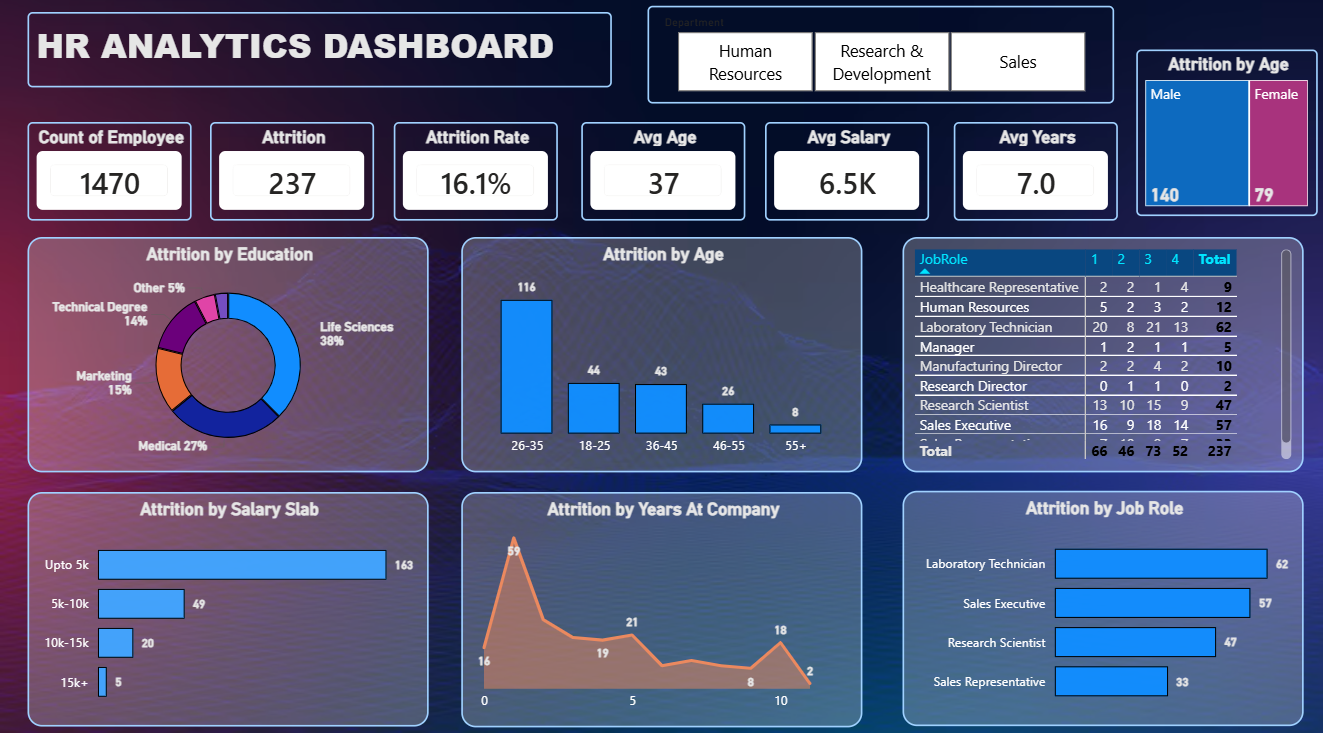

The page's visual inventory and layout, read from the dashboard file:
{"tool":"powerbi","page":{"name":"Page 1","canvas":[1280,720],"ordinal":0},"visuals":[{"type":"cardVisual","title":"Count of Employee","fields":{"Data":["CountNonNull(HR_Analytics.EmpID)"]},"box":[26.2,125,158.8,95],"z":0},{"type":"cardVisual","title":"Attrition","fields":{"Data":["Sum(HR_Analytics.AttritionCount)"]},"box":[202.5,125,158.8,95],"z":1000},{"type":"cardVisual","title":"Attrition Rate","fields":{"Data":["HR_Analytics.AttritionRate"]},"box":[380,125,158.8,95],"z":2000},{"type":"cardVisual","title":"Avg Age","fields":{"Data":["Avg(HR_Analytics.Age)"]},"box":[561.2,125,158.8,95],"z":3000},{"type":"cardVisual","title":"Avg Salary","fields":{"Data":["Avg(HR_Analytics.MonthlyIncome)"]},"box":[738.8,125,158.8,95],"z":4000},{"type":"cardVisual","title":"Avg Years","fields":{"Data":["Avg(HR_Analytics.YearsAtCompany)"]},"box":[920,125,158.8,95],"z":5000},{"type":"donutChart","title":"Attrition by Education","fields":{"Category":["HR_Analytics.EducationField"],"Y":["Sum(HR_Analytics.AttritionCount)"]},"box":[26.5,236.5,387.3,226.8],"z":6000},{"type":"columnChart","title":"Attrition by Age","fields":{"Category":["HR_Analytics.AgeGroup"],"Y":["Sum(HR_Analytics.AttritionCount)"]},"box":[445.2,236.5,387.3,226.8],"z":7000},{"type":"pivotTable","title":"Job Satisfaction","fields":{"Rows":["HR_Analytics.JobRole"],"Values":["Sum(HR_Analytics.AttritionCount)"],"Columns":["HR_Analytics.JobSatisfaction"]},"box":[871.1,236.5,387.3,226.8],"z":8000},{"type":"barChart","title":"Attrition by Salary Slab","fields":{"Category":["HR_Analytics.SalarySlab"],"Y":["Sum(HR_Analytics.AttritionCount)"]},"box":[26.5,482.6,387,226],"z":9000},{"type":"barChart","title":"Attrition by Job Role","fields":{"Category":["HR_Analytics.JobRole"],"Y":["Sum(HR_Analytics.AttritionCount)"]},"box":[871.1,481.4,387.3,226.8],"z":10000},{"type":"areaChart","title":"Attrition by Years At Company","fields":{"Category":["HR_Analytics.YearsAtCompany"],"Y":["Sum(HR_Analytics.AttritionCount)"]},"box":[445.2,482.6,387.3,226.8],"z":11000},{"type":"treemap","title":"Attrition by Age","fields":{"Group":["HR_Analytics.Gender"],"Values":["Sum(HR_Analytics.AttritionCount)"]},"box":[1096.7,55.5,174.9,160.5],"z":12000},{"type":"slicer","fields":{"Values":["HR_Analytics.Department"]},"box":[624.9,13.3,450,94.1],"z":13000},{"type":"textbox","box":[26.2,18.8,563.8,72.5],"z":14000}]}

Visuals, with their boxes in screenshot pixels (x1, y1, x2, y2), scaled from the page's 1280x720 canvas onto the 1323x733 screenshot:
"Count of Employee" cardVisual: x1=27, y1=127, x2=191, y2=224
"Attrition" cardVisual: x1=209, y1=127, x2=373, y2=224
"Attrition Rate" cardVisual: x1=393, y1=127, x2=557, y2=224
"Avg Age" cardVisual: x1=580, y1=127, x2=744, y2=224
"Avg Salary" cardVisual: x1=764, y1=127, x2=928, y2=224
"Avg Years" cardVisual: x1=951, y1=127, x2=1115, y2=224
"Attrition by Education" donutChart: x1=27, y1=241, x2=428, y2=472
"Attrition by Age" columnChart: x1=460, y1=241, x2=860, y2=472
"Job Satisfaction" pivotTable: x1=900, y1=241, x2=1301, y2=472
"Attrition by Salary Slab" barChart: x1=27, y1=491, x2=427, y2=721
"Attrition by Job Role" barChart: x1=900, y1=490, x2=1301, y2=721
"Attrition by Years At Company" areaChart: x1=460, y1=491, x2=860, y2=722
"Attrition by Age" treemap: x1=1134, y1=57, x2=1314, y2=220
slicer - HR_Analytics.Department: x1=646, y1=14, x2=1111, y2=109
textbox: x1=27, y1=19, x2=610, y2=93
